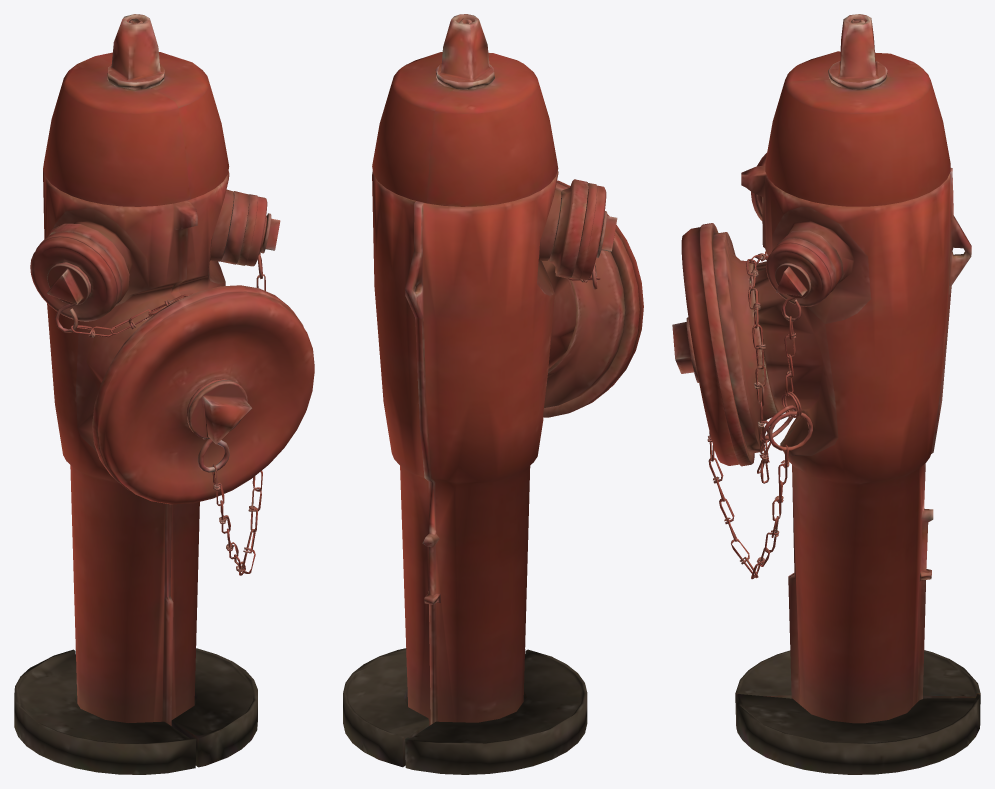
File: fire_hydrant.glb
3 views of the same model, side by side, from view 1: azimuth 30°, elevation 25°; view 2: azimuth 150°, elevation 25°; view 3: azimuth 270°, elevation 25° (orthographic).
Parts seen in each view (by area): view 1: fire_hydrant, fire_hydrant_cap_01, fire_hydrant_cap_03, fire_hydrant_chain, fire_hydrant_cap_02; view 2: fire_hydrant, fire_hydrant_cap_01, fire_hydrant_cap_03; view 3: fire_hydrant, fire_hydrant_cap_01, fire_hydrant_chain, fire_hydrant_cap_02.
Part boxes in pixels (x1,y1,x2,y2): fire_hydrant: (14,14,257,774); fire_hydrant_cap_01: (92,285,314,504); fire_hydrant_cap_03: (30,232,121,321); fire_hydrant_chain: (55,215,266,575); fire_hydrant_cap_02: (236,194,280,266); fire_hydrant: (343,14,624,774); fire_hydrant_cap_01: (543,180,643,417); fire_hydrant_cap_03: (571,183,617,279); fire_hydrant: (713,14,980,774); fire_hydrant_cap_01: (672,223,754,466); fire_hydrant_chain: (707,251,812,579); fire_hydrant_cap_02: (766,238,835,306).
Bounding box in the file's own units: 0.2746 × 0.7994 × 0.3173.
Materials: 1 (1 with a texture image).
